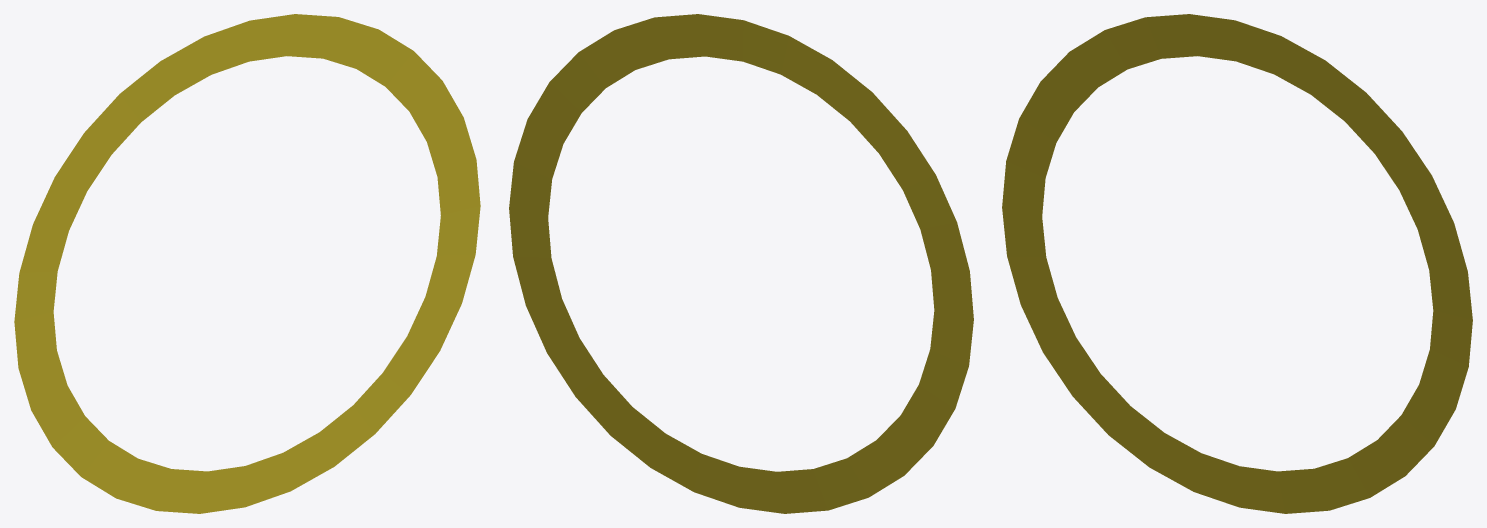
File: ring_new.dae
3 views of the same model, side by side, from view 1: azimuth 30°, elevation 25°; view 2: azimuth 150°, elevation 25°; view 3: azimuth 330°, elevation 25° (orthographic).
Parts seen in each view (by area): view 1: ring_new; view 2: ring_new; view 3: ring_new.
Boxes of the visible parts, <box> form: ring_new: <box>14,14,480,513</box>; ring_new: <box>509,14,973,513</box>; ring_new: <box>1002,14,1472,513</box>.
Size of the model in its own units: 0.492 by 0.00885 by 0.4919.
